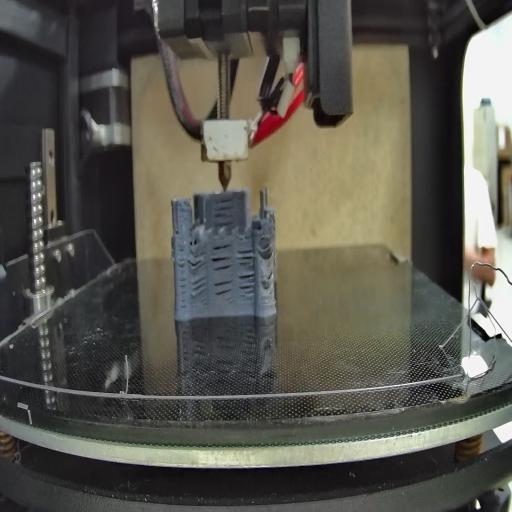cracks: (209, 278, 234, 306), (213, 194, 234, 227), (211, 243, 234, 272), (237, 271, 256, 303), (236, 243, 256, 266), (188, 246, 207, 270), (178, 260, 187, 310), (189, 278, 207, 298), (262, 244, 273, 260), (266, 269, 275, 283), (175, 222, 179, 236)
